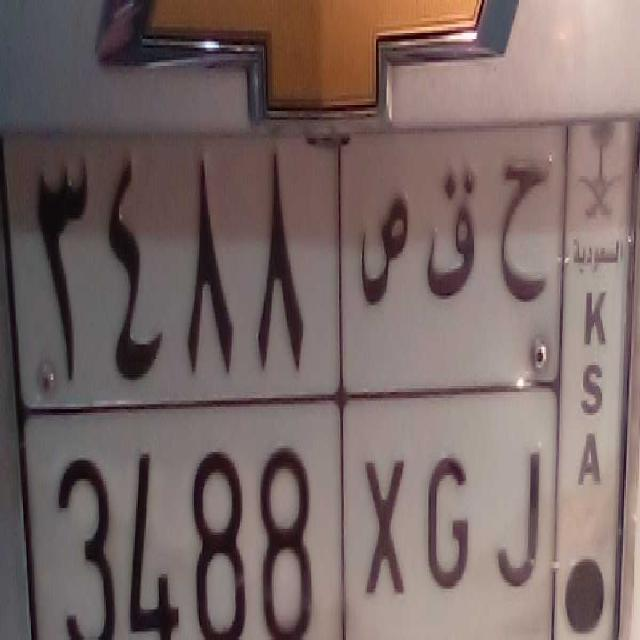license_plate: (26, 403, 556, 640)
